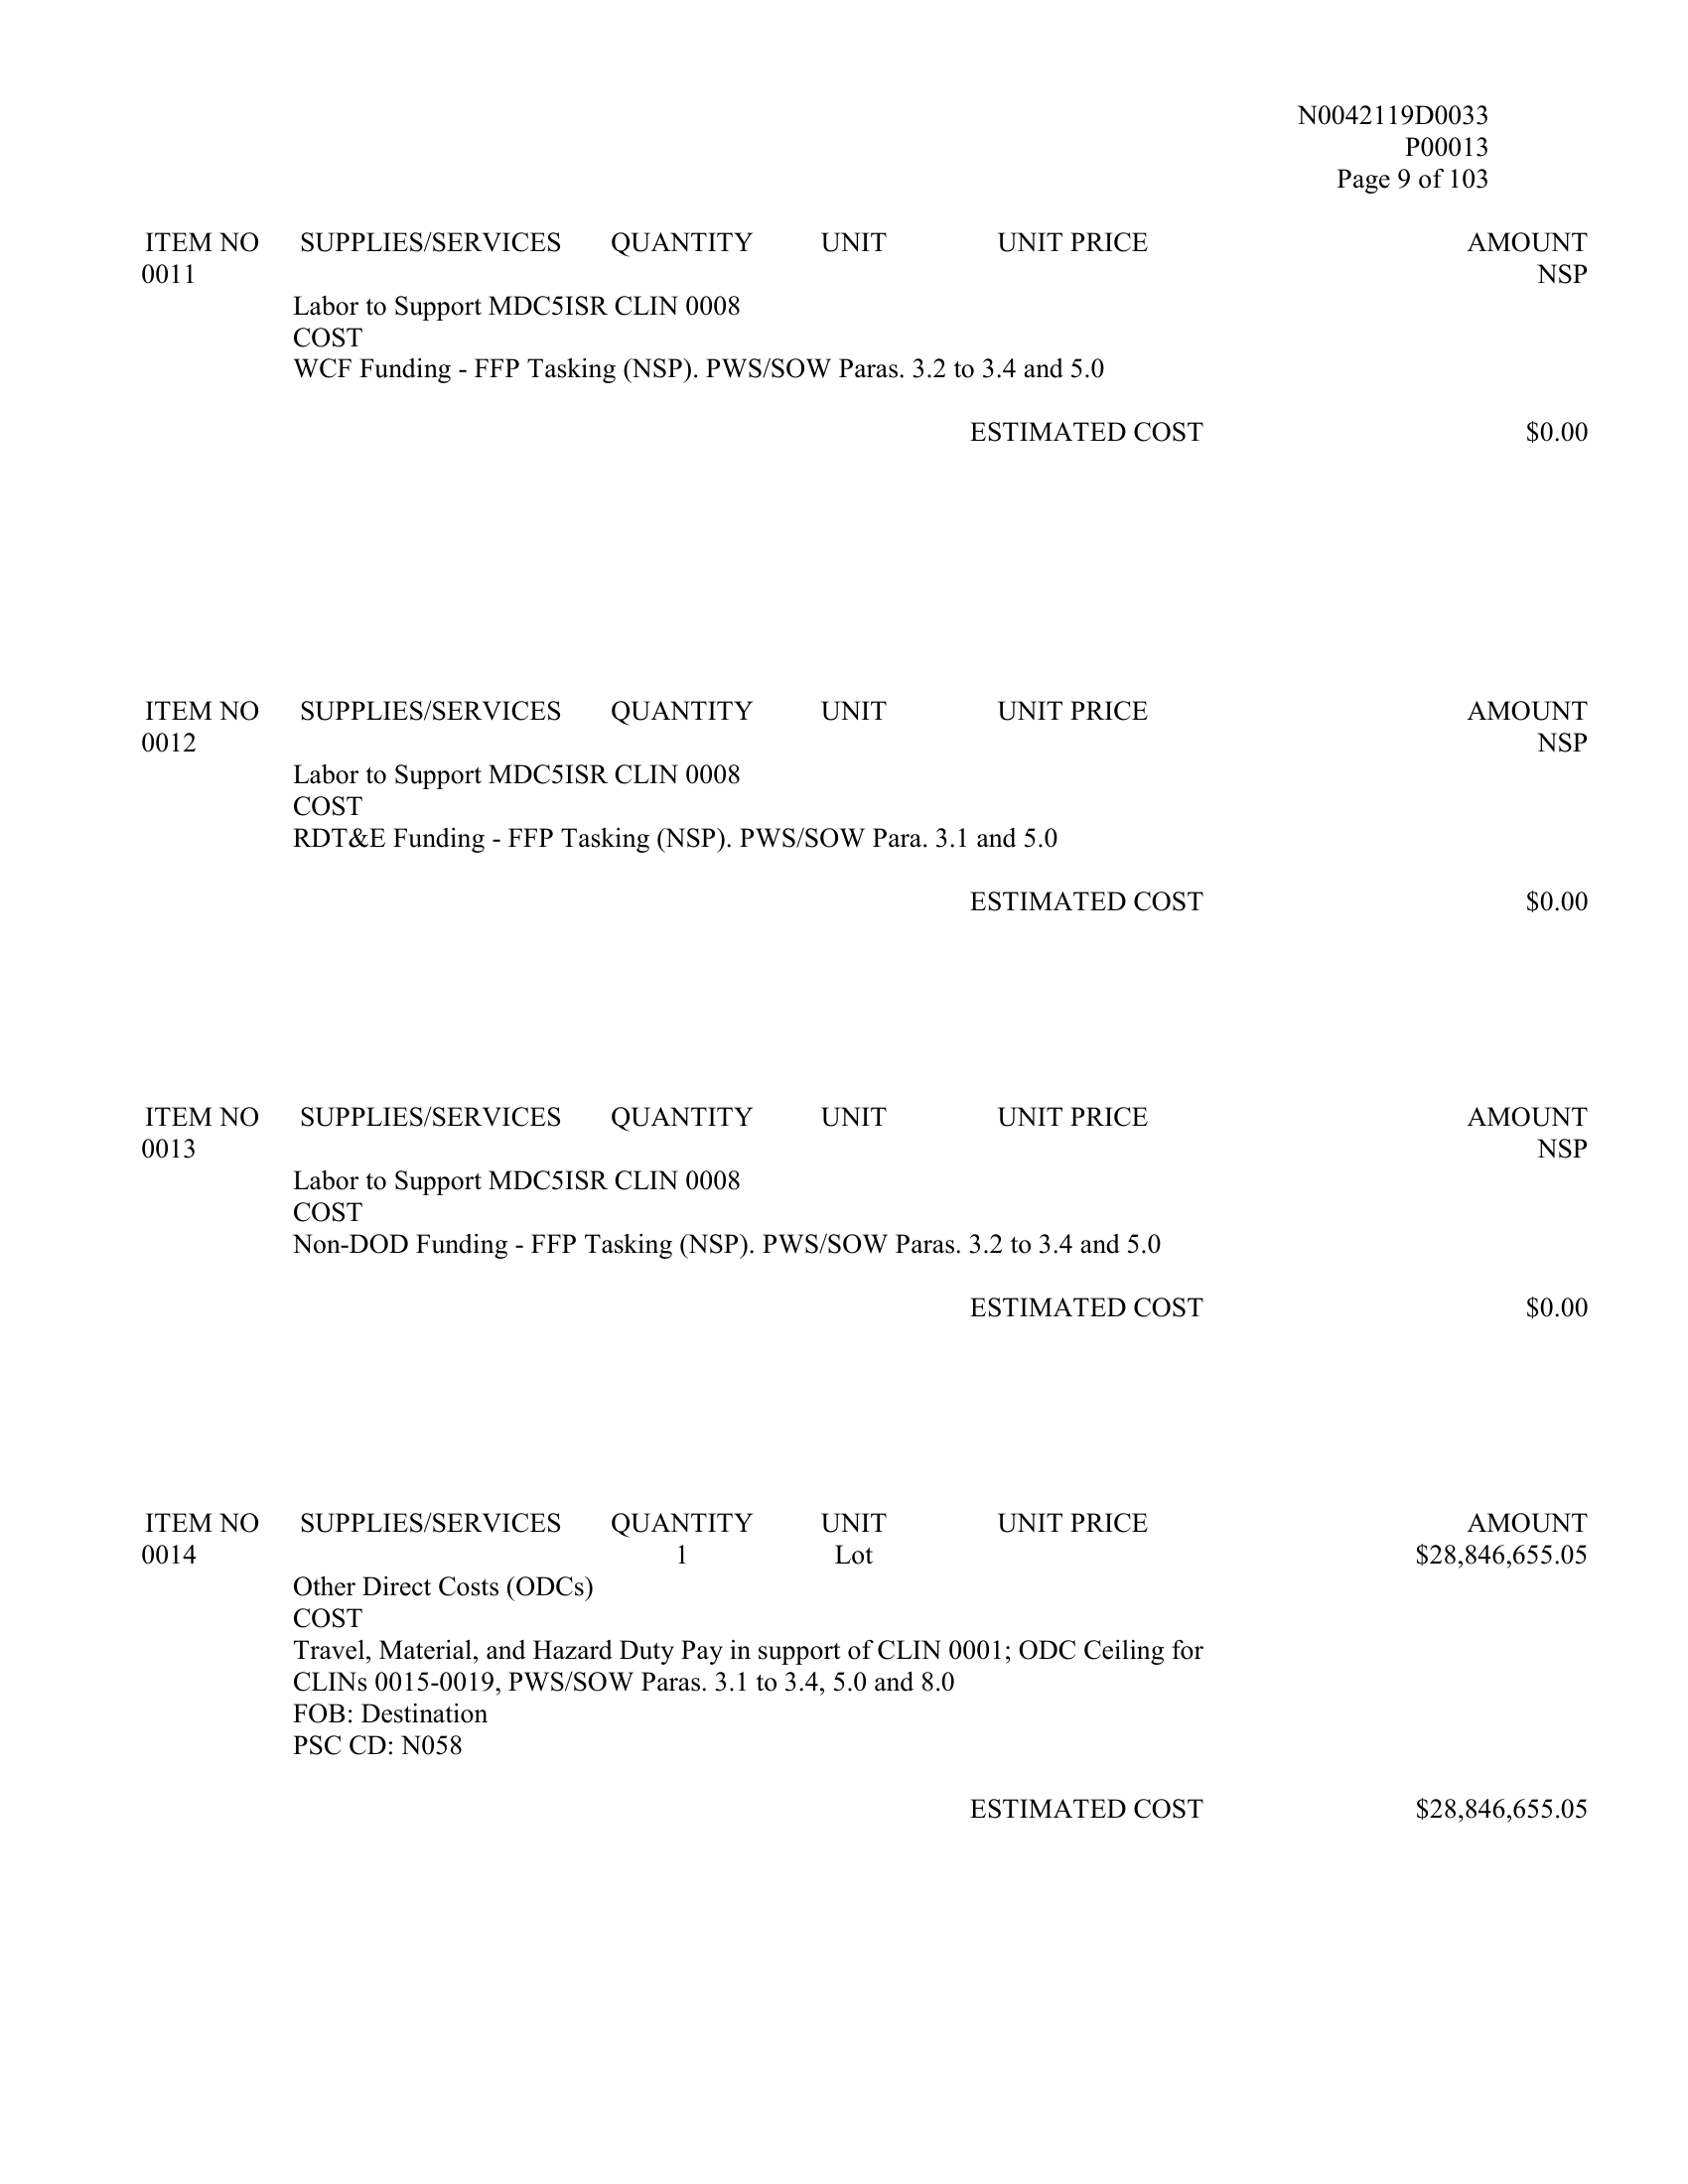table: (137, 1501, 1617, 1837), (129, 690, 1612, 931), (137, 1099, 1596, 1335), (137, 223, 1606, 448)
table column: (1262, 1501, 1619, 1837), (266, 1500, 599, 1837), (931, 1505, 1259, 1838), (973, 1099, 1355, 1338), (956, 223, 1339, 448), (966, 688, 1314, 932), (275, 691, 590, 936), (1314, 690, 1615, 931), (293, 1101, 601, 1333), (280, 222, 587, 450), (601, 1501, 791, 1837), (1342, 225, 1601, 450), (1358, 1099, 1598, 1333), (606, 1101, 809, 1335), (583, 223, 789, 448), (793, 1505, 931, 1838), (590, 691, 782, 929), (784, 690, 961, 932), (140, 1501, 264, 1837), (789, 222, 956, 450), (814, 1101, 972, 1337), (138, 1101, 291, 1333), (128, 691, 271, 932), (135, 225, 284, 448)
table column header: (131, 693, 1615, 734), (138, 1503, 1621, 1540), (138, 1097, 1599, 1135), (138, 227, 1596, 261)
table row: (137, 1537, 1619, 1759), (131, 1129, 1598, 1264), (128, 725, 1612, 856), (135, 259, 1601, 385)
